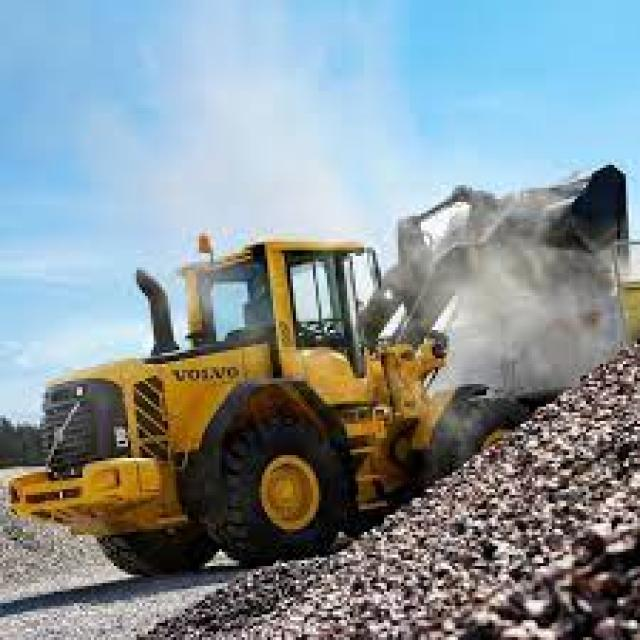buldozerpayloadergrader: (4, 219, 525, 562)
